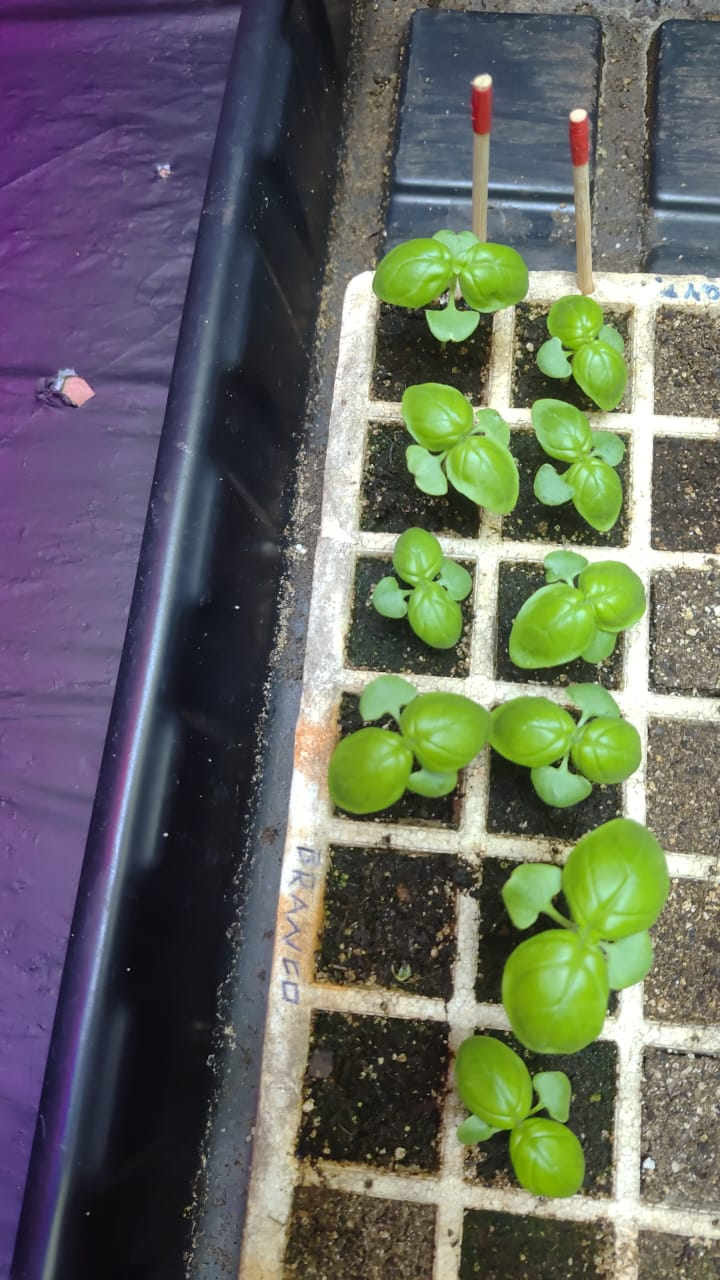Folha: (444, 811, 681, 1202), (325, 666, 645, 819), (342, 222, 537, 347), (405, 529, 474, 648), (396, 377, 507, 447), (390, 524, 474, 600), (368, 523, 415, 643), (467, 242, 529, 310), (580, 334, 629, 413), (369, 236, 416, 314), (547, 293, 607, 350), (571, 468, 625, 530), (531, 398, 587, 451), (404, 444, 448, 494), (397, 382, 416, 491), (535, 336, 572, 378), (439, 560, 473, 599), (544, 550, 586, 580), (600, 428, 627, 465), (397, 963, 412, 979)
Germinacao: (399, 381, 643, 559), (501, 283, 648, 506), (454, 1022, 630, 1206), (464, 849, 639, 1029), (321, 525, 489, 693), (482, 545, 648, 701), (476, 692, 635, 841), (369, 226, 525, 348), (317, 672, 415, 837), (396, 963, 413, 979), (338, 872, 350, 888)
